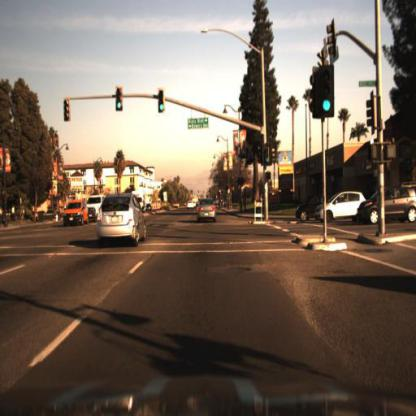car: (99, 191, 147, 248), (357, 187, 416, 230), (314, 187, 369, 225), (295, 191, 325, 226), (59, 196, 90, 229), (194, 194, 219, 227), (85, 194, 106, 226), (184, 197, 197, 214)
pedestrian: (244, 195, 248, 213)
trafficLight: (62, 98, 72, 124)
trafficLight-Green: (315, 67, 335, 118), (114, 81, 126, 114), (113, 85, 125, 114), (158, 87, 166, 116), (264, 147, 272, 165)
